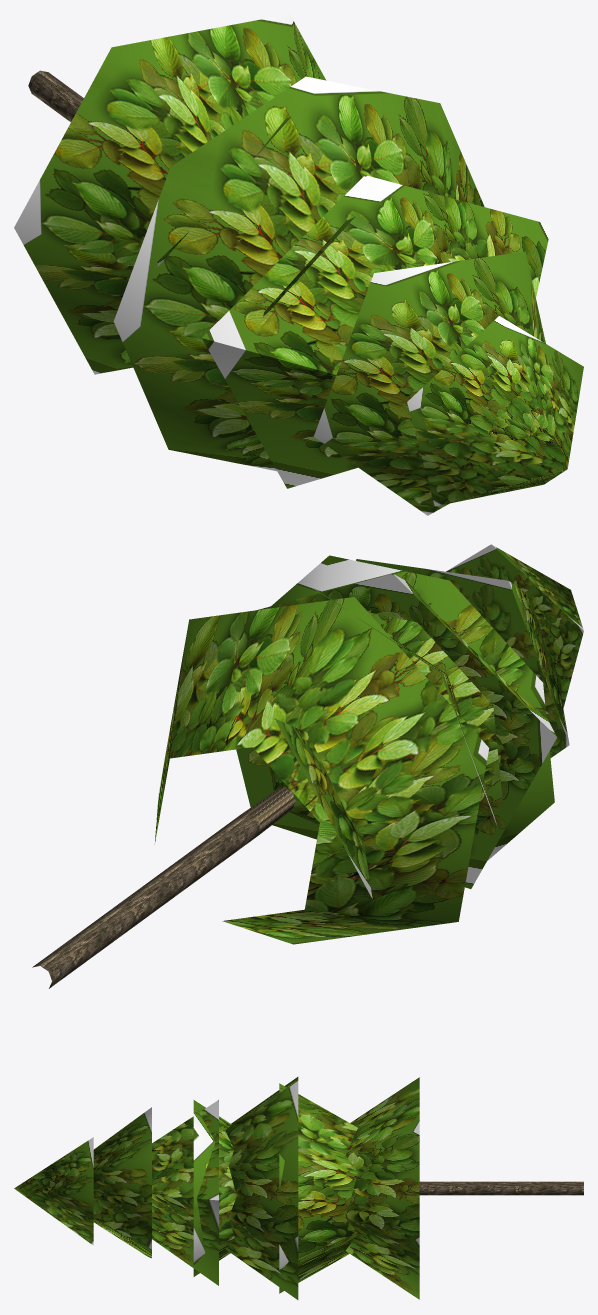
Rendered from xss_x04.gltf.
The picture shows the model from 3 angles, top to bottom: view 1: azimuth 30°, elevation 25°; view 2: azimuth 150°, elevation 25°; view 3: azimuth 270°, elevation 25°; orthographic projection. The views are drawn at different scales.
Visible parts, largest first — view 1: huitugou_2195_107; view 2: huitugou_2195_107; view 3: huitugou_2195_107.
Part boxes in pixels (x1,y1,x2,y2): huitugou_2195_107: (14,14,583,515); huitugou_2195_107: (32,544,583,988); huitugou_2195_107: (14,1077,583,1299).
Size of the model in its own units: 10.52 by 10.52 by 25.21.
Materials: 2 (2 with a texture image).
